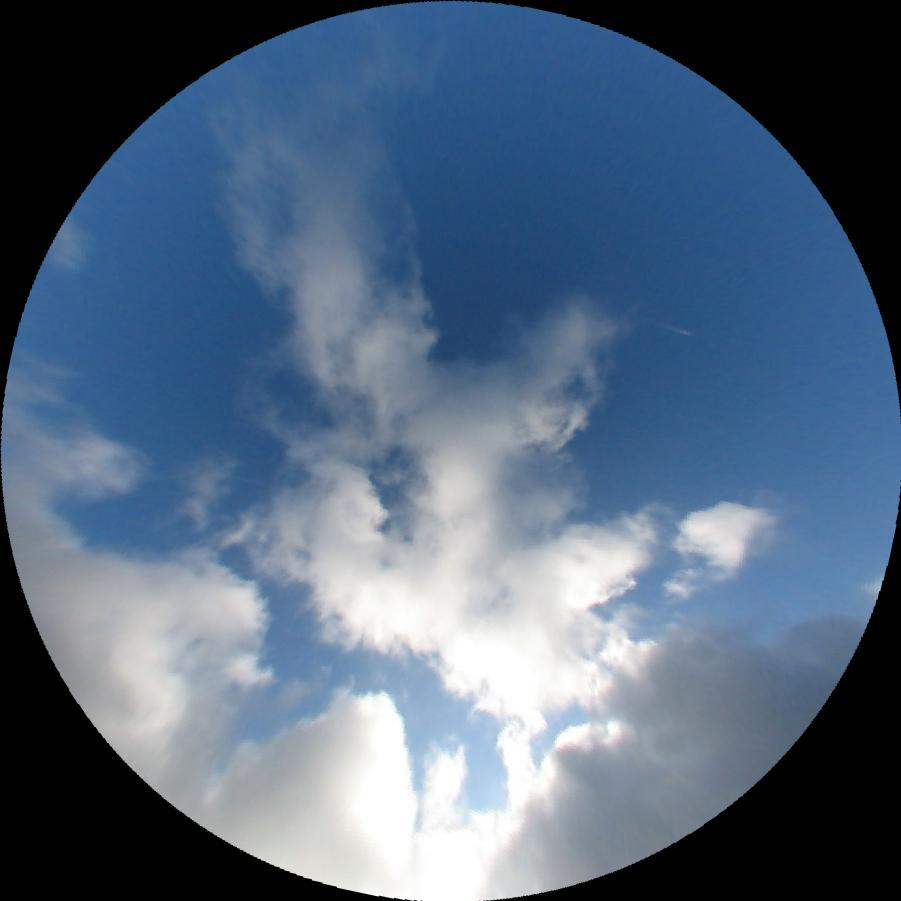contrail young: (657, 322, 694, 337)
